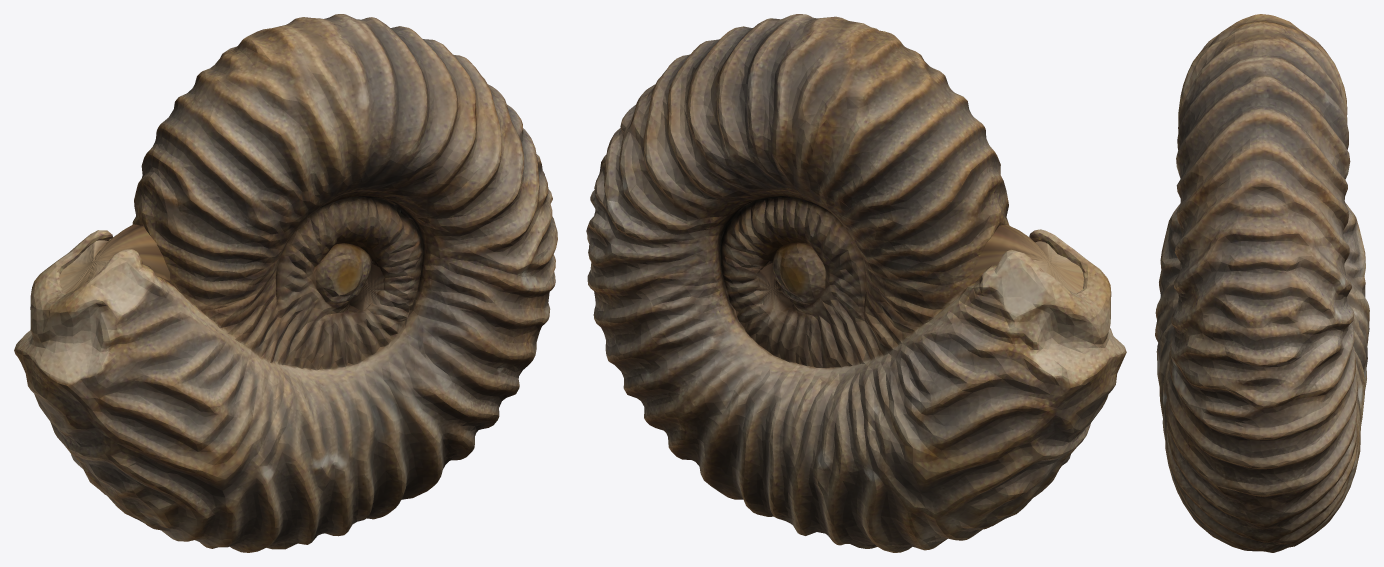
3 renders of one model, left to right at view 1: azimuth 30°, elevation 25°; view 2: azimuth 150°, elevation 25°; view 3: azimuth 270°, elevation 25°, orthographic. The views are drawn at different scales.
Visible parts, largest first — view 1: world, terminal_mineral, inner_-1; view 2: world, terminal_mineral, inner_1; view 3: world.
Boxes of the visible parts, left/top/right/bottom form: world: left=14, top=14, right=557, bottom=552; terminal_mineral: left=59, top=224, right=169, bottom=293; inner_-1: left=349, top=263, right=384, bottom=310; world: left=586, top=14, right=1126, bottom=552; terminal_mineral: left=973, top=225, right=1083, bottom=293; inner_1: left=755, top=263, right=792, bottom=310; world: left=1155, top=14, right=1369, bottom=552.
Bounding box in the file's own units: 0.9993 × 0.9409 × 0.3694.
Materials: 4 (1 with a texture image).
